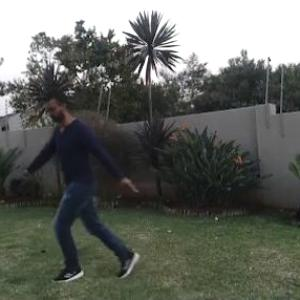land: (23, 76, 160, 292)
